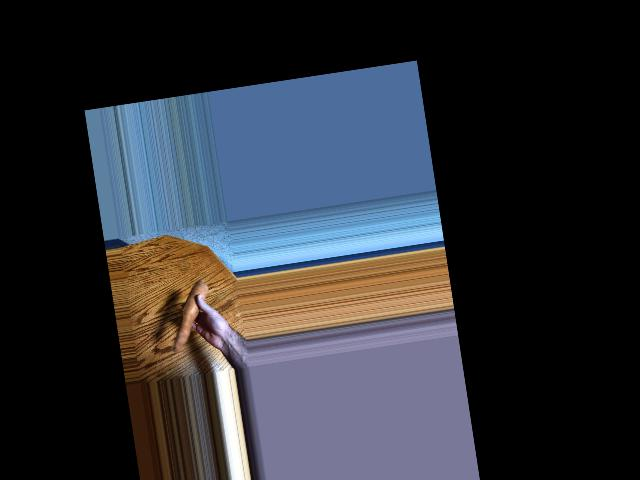sweet_potato: (167, 271, 214, 351)
